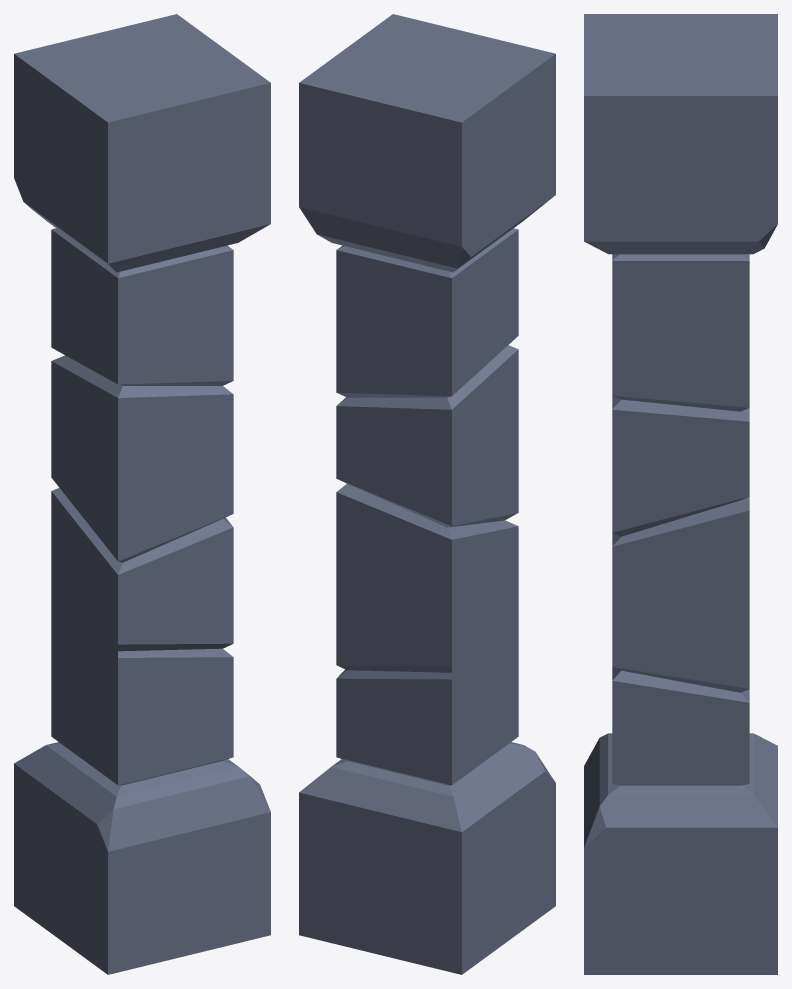
File: Piller_Stone02.fbx
3 views of the same model, side by side, from view 1: azimuth 30°, elevation 25°; view 2: azimuth 150°, elevation 25°; view 3: azimuth 270°, elevation 25° (orthographic). The views are drawn at different scales.
Visible parts, largest first — view 1: Piller_Stone02; view 2: Piller_Stone02; view 3: Piller_Stone02.
Part boxes in pixels (bbox=[...]): Piller_Stone02: bbox=[14, 14, 270, 974]; Piller_Stone02: bbox=[299, 14, 555, 974]; Piller_Stone02: bbox=[584, 14, 777, 974].
Size of the model in its own units: 0.4 by 2 by 0.4.
